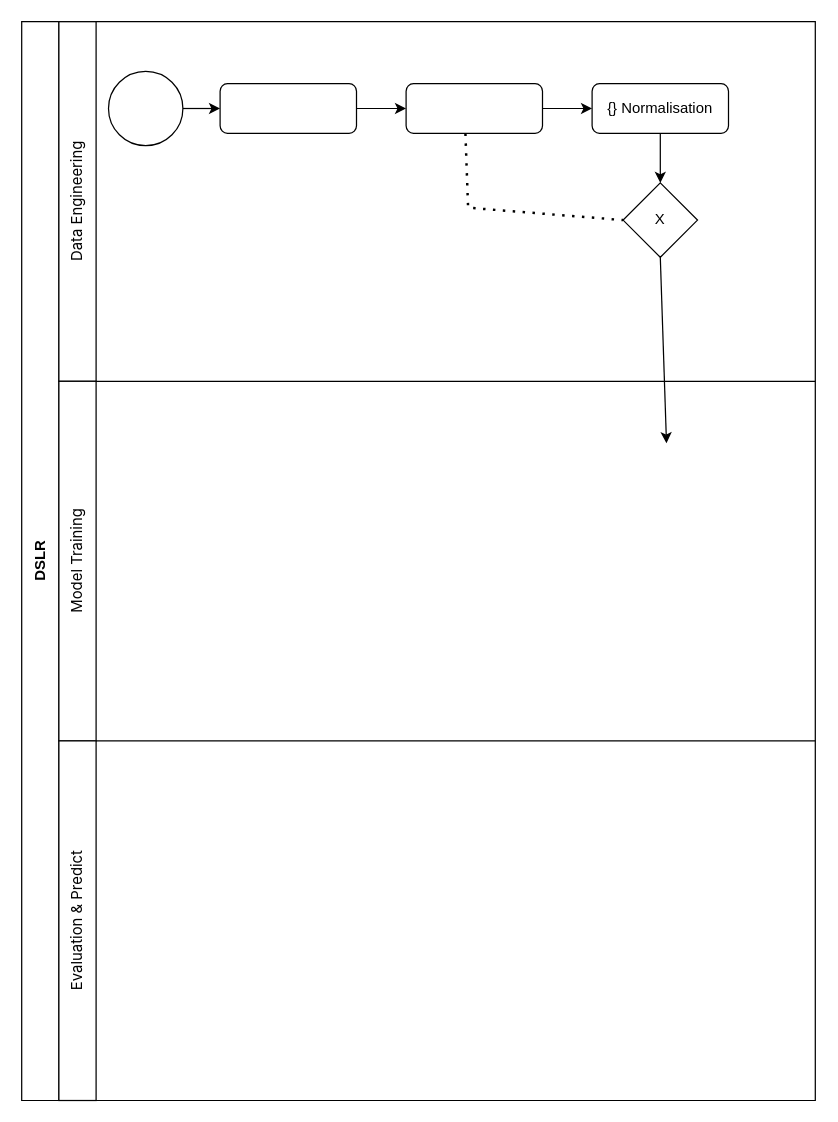
The diagram is 838 pixels wide and 1122 high, and some of its shapes have lost their labels. The shapes that lost their labels are listed below. From the top down, each one's centre as x and y in pixels, then its label:
At [145,108]: "START".
At [287,107]: "{} describe()".
At [473,107]: "{} Nettoyage NaN".
